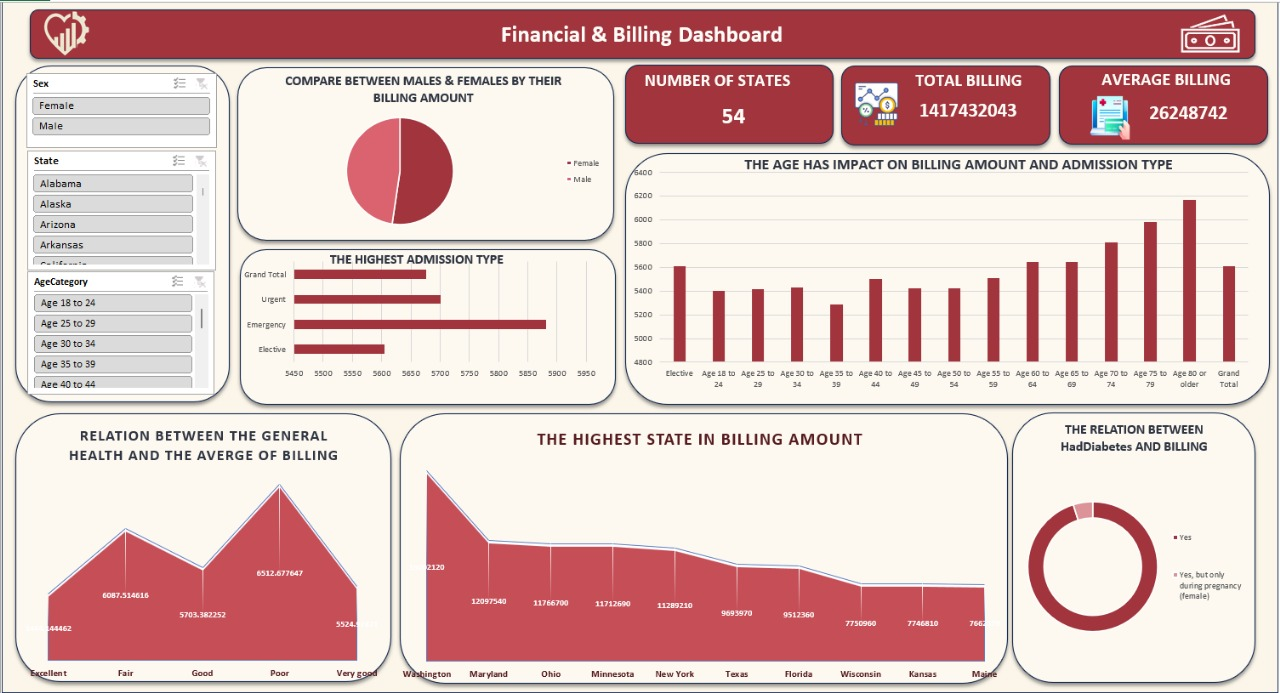

This screenshot's page, from the dashboard's own definition file:
{"tool":"powerbi","page":{"name":"Duplicate of Financial analysis","canvas":[1280,720],"ordinal":1},"visuals":[{"type":"shape","box":[918.2,402.7,361.8,305.4],"z":0},{"type":"shape","box":[0,0,1280.2,169.8],"z":1000,"group":"g1"},{"type":"shape","box":[0,202.3,205.2,198.4],"z":1000},{"type":"shape","box":[3.8,401.7,210.2,111.4],"z":1000,"group":"g5"},{"type":"shape","box":[1048.9,14.1,211.3,193.4],"z":2000,"group":"g1"},{"type":"pieChart","title":"Billing Amount by Gendar","fields":{"Category":["الجدول2_3.Sex"],"Y":["Sum(الجدول2_3.Billing Amount)"]},"box":[9.7,213,183.8,176],"z":2000},{"type":"shape","box":[2.9,603.5,210,104.6],"z":2000,"group":"g5"},{"type":"shape","box":[9.4,10.4,211.3,193.4],"z":3000,"group":"g1"},{"type":"shape","box":[0,505.8,212,98.2],"z":3000},{"type":"group","id":"g1","title":"Group 1","box":[0,0,1280.2,207.5],"z":4000},{"type":"slicer","fields":{"Values":["الجدول2_3.Sex"]},"box":[25.9,26.7,178.5,83.7],"z":5000,"group":"g1"},{"type":"shape","box":[210.1,194.5,313.2,135.2],"z":5000,"group":"g4"},{"type":"shape","box":[522.7,195.5,394.5,134.2],"z":5000},{"type":"cardVisual","fields":{"Data":["الجدول2_3.AVG COST OF PATIENT"]},"box":[25.4,408,171.6,72.5],"z":5000,"group":"g5"},{"type":"textbox","box":[302.3,0,440.7,97.7],"z":6000,"group":"g1"},{"type":"group","id":"g2","title":"Group 3","box":[564,328,354,380.3],"z":6000},{"type":"cardVisual","fields":{"Data":["الجدول2_3.NUM.STATES"]},"box":[55.5,603.3,100.2,74.7],"z":6000,"group":"g5"},{"type":"shape","box":[794.3,14.3,235.7,30],"z":7000,"group":"g1"},{"type":"group","id":"g3","title":"Group 4","box":[210.1,324.9,353.1,383.2],"z":7000},{"type":"shape","box":[794.3,87.1,235.7,30],"z":8000,"group":"g1"},{"type":"cardVisual","fields":{"Data":["الجدول2_3.AVG BILLING"]},"box":[526.8,242.8,164.8,63.4],"z":8000},{"type":"cardVisual","fields":{"Data":["الجدول2_3.TOTAL BIKLLING"]},"box":[12.5,502.9,192.3,75],"z":8000,"group":"g5"},{"type":"shape","box":[794.3,50,235.7,31.4],"z":9000,"group":"g1"},{"type":"group","id":"g4","title":"Group 7","box":[210.1,194.5,313.2,135.2],"z":9000},{"type":"textbox","box":[17.8,654.1,178.5,43.6],"z":9000,"group":"g5"},{"type":"textbox","box":[820,14.3,178.6,35.7],"z":10000,"group":"g1"},{"type":"shape","box":[917.2,207.2,361.8,193.6],"z":10000},{"type":"textbox","box":[32.7,562.8,148.8,40.5],"z":10000,"group":"g5"},{"type":"textbox","box":[805.7,87.1,224.3,41.4],"z":11000,"group":"g1"},{"type":"areaChart","fields":{"Y":["الجدول2_3.AVG COST OF PATIENT"],"Category":["الجدول2_3.State"]},"box":[931.4,218.4,334.2,171.3],"z":11000},{"type":"shape","box":[564,328,354,380.3],"z":11000,"group":"g2"},{"type":"textbox","box":[19.8,467.3,177.5,35.3],"z":11000,"group":"g5"},{"type":"textbox","box":[814.2,50,215.6,37.1],"z":12000,"group":"g1"},{"type":"shape","box":[210.1,324.9,353.1,383.2],"z":12000,"group":"g3"},{"type":"areaChart","title":"Billing Amount by Month & Admission Type","fields":{"Category":["الجدول2_3.Date of Admission.Variation.Date Hierarchy.Month"],"Y":["Sum(الجدول2_3.Billing Amount)"],"Series":["الجدول2_3.Admission Type"]},"box":[931.8,417.3,334.6,276.2],"z":12000},{"type":"slicer","fields":{"Values":["الجدول2_3.AgeCategory"]},"box":[1061.2,27.5,186.2,142.5],"z":13000,"group":"g1"},{"type":"lineChart","title":"AVG Billing  by Length of Stay","fields":{"Y":["الجدول2_3.AVG BILLING"],"Category":["الجدول2_3.Date of Admission.Variation.Date Hierarchy.Year"]},"box":[657.5,202.3,240.2,116.7],"z":13000},{"type":"textbox","box":[517.4,210.6,168.6,36.1],"z":14000},{"type":"lineChart","title":"AVG Billing by Admission Type","fields":{"Category":["الجدول2_3.Admission Type"],"Y":["الجدول2_3.AVG BILLING"]},"box":[223.7,208.1,283,110.9],"z":15000},{"type":"group","id":"g5","title":"Group 2","box":[2.9,401.7,211.1,306.4],"z":16000},{"type":"image","box":[220.8,13.8,102.6,88],"z":17000},{"type":"image","box":[48.3,53.5,70.7,38],"z":18000},{"type":"image","box":[110.4,55.2,73.3,36.2],"z":19000},{"type":"clusteredBarChart","fields":{"Category":["الجدول2_3.Hospital"],"Y":["Sum(الجدول2_3.Billing Amount)"]},"box":[215.8,338.9,332.6,360.4],"z":19000,"group":"g3"},{"type":"slicer","fields":{"Values":["الجدول2_3.State"]},"box":[22.6,111.3,186.8,72.6],"z":20000,"group":"g1"},{"type":"clusteredBarChart","fields":{"Category":["الجدول2_3.State"],"Y":["Sum(الجدول2_3.Billing Amount)"]},"box":[570.9,338.7,331.7,359.9],"z":20000,"group":"g2"},{"type":"shape","box":[267.9,86.8,510.3,114.1],"z":22000,"group":"g1"},{"type":"slicer","fields":{"Values":["الجدول2_3.Date of Admission"]},"box":[290,97.5,473.8,97.5],"z":24000,"group":"g1"}]}

Visuals, with their boxes on the page's 1280x720 design canvas (x1, y1, x2, y2). These are canvas units, not pixel positions in the 1280x693 screenshot, which may show the page scaled, cropped or inside an application window:
shape: box(918, 403, 1280, 708)
shape: box(0, 0, 1280, 170)
shape: box(0, 202, 205, 401)
shape: box(4, 402, 214, 513)
shape: box(1049, 14, 1260, 208)
"Billing Amount by Gendar" pieChart: box(10, 213, 194, 389)
shape: box(3, 604, 213, 708)
shape: box(9, 10, 221, 204)
shape: box(0, 506, 212, 604)
"Group 1" group: box(0, 0, 1280, 208)
slicer - الجدول2_3.Sex: box(26, 27, 204, 110)
shape: box(210, 194, 523, 330)
shape: box(523, 196, 917, 330)
cardVisual - الجدول2_3.AVG COST OF PATIENT: box(25, 408, 197, 480)
textbox: box(302, 0, 743, 98)
"Group 3" group: box(564, 328, 918, 708)
cardVisual - الجدول2_3.NUM.STATES: box(56, 603, 156, 678)
shape: box(794, 14, 1030, 44)
"Group 4" group: box(210, 325, 563, 708)
shape: box(794, 87, 1030, 117)
cardVisual - الجدول2_3.AVG BILLING: box(527, 243, 692, 306)
cardVisual - الجدول2_3.TOTAL BIKLLING: box(12, 503, 205, 578)
shape: box(794, 50, 1030, 81)
"Group 7" group: box(210, 194, 523, 330)
textbox: box(18, 654, 196, 698)
textbox: box(820, 14, 999, 50)
shape: box(917, 207, 1279, 401)
textbox: box(33, 563, 182, 603)
textbox: box(806, 87, 1030, 128)
areaChart - الجدول2_3.AVG COST OF PATIENT x الجدول2_3.State: box(931, 218, 1266, 390)
shape: box(564, 328, 918, 708)
textbox: box(20, 467, 197, 503)
textbox: box(814, 50, 1030, 87)
shape: box(210, 325, 563, 708)
"Billing Amount by Month & Admission Type" areaChart: box(932, 417, 1266, 694)
slicer - الجدول2_3.AgeCategory: box(1061, 28, 1247, 170)
"AVG Billing  by Length of Stay" lineChart: box(658, 202, 898, 319)
textbox: box(517, 211, 686, 247)
"AVG Billing by Admission Type" lineChart: box(224, 208, 507, 319)
"Group 2" group: box(3, 402, 214, 708)
image: box(221, 14, 323, 102)
image: box(48, 54, 119, 92)
image: box(110, 55, 184, 91)
clusteredBarChart - الجدول2_3.Hospital x Sum(الجدول2_3.Billing Amount): box(216, 339, 548, 699)
slicer - الجدول2_3.State: box(23, 111, 209, 184)
clusteredBarChart - الجدول2_3.State x Sum(الجدول2_3.Billing Amount): box(571, 339, 903, 699)
shape: box(268, 87, 778, 201)
slicer - الجدول2_3.Date of Admission: box(290, 98, 764, 195)
